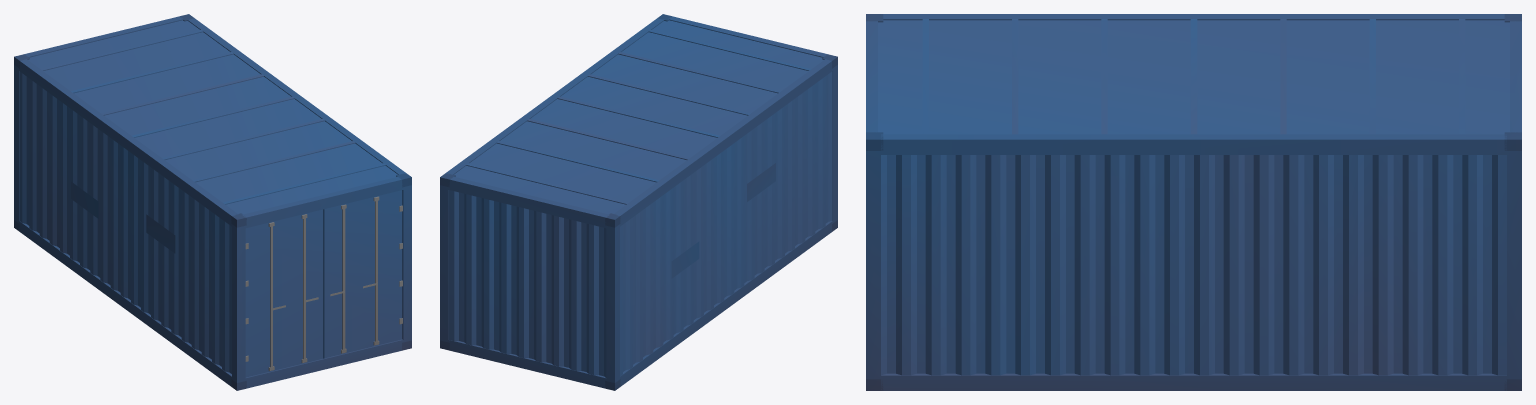
File: container.shipping.blue.glb
3 renders of one model, left to right at view 1: azimuth 30°, elevation 25°; view 2: azimuth 150°, elevation 25°; view 3: azimuth 270°, elevation 25°, orthographic. The views are drawn at different scales.
Visible parts, largest first — view 1: container_shipping_blue; view 2: container_shipping_blue; view 3: container_shipping_blue.
Boxes of the visible parts, x1,y1,x2,y2 form: container_shipping_blue: [14, 14, 411, 390]; container_shipping_blue: [440, 14, 837, 390]; container_shipping_blue: [866, 14, 1521, 390].
Size of what is drawn, in the model's own units: 2.78 by 2.6 by 6.14.
